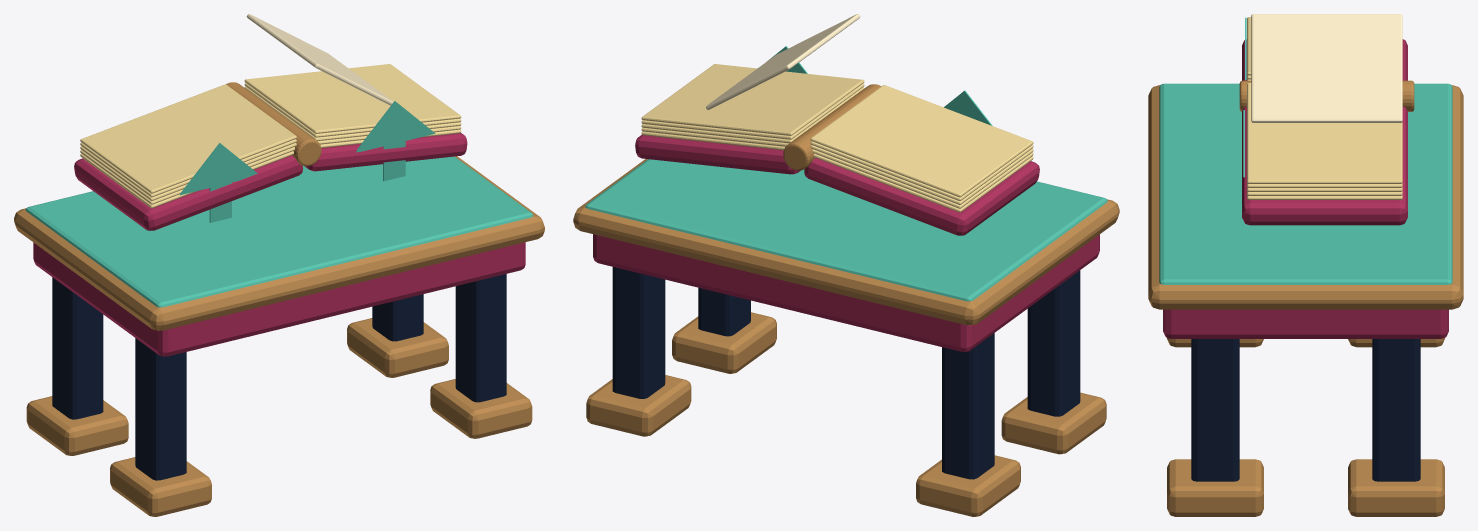
File: HighLow.fbx
3 renders of one model, left to right at view 1: azimuth 30°, elevation 25°; view 2: azimuth 150°, elevation 25°; view 3: azimuth 270°, elevation 25°, orthographic. The views are drawn at different scales.
Visible parts, largest first — view 1: HighLow.Mesh, HighLow.TurningLeaf; view 2: HighLow.Mesh, HighLow.TurningLeaf; view 3: HighLow.Mesh, HighLow.TurningLeaf.
Part boxes in pixels (<box>): HighLow.Mesh: <box>14,64,544,516</box>; HighLow.TurningLeaf: <box>246,14,393,105</box>; HighLow.Mesh: <box>573,46,1119,516</box>; HighLow.TurningLeaf: <box>706,14,860,109</box>; HighLow.Mesh: <box>1148,17,1463,516</box>; HighLow.TurningLeaf: <box>1251,14,1402,122</box>.
Bounding box in the file's own units: 235 × 216 × 150.
